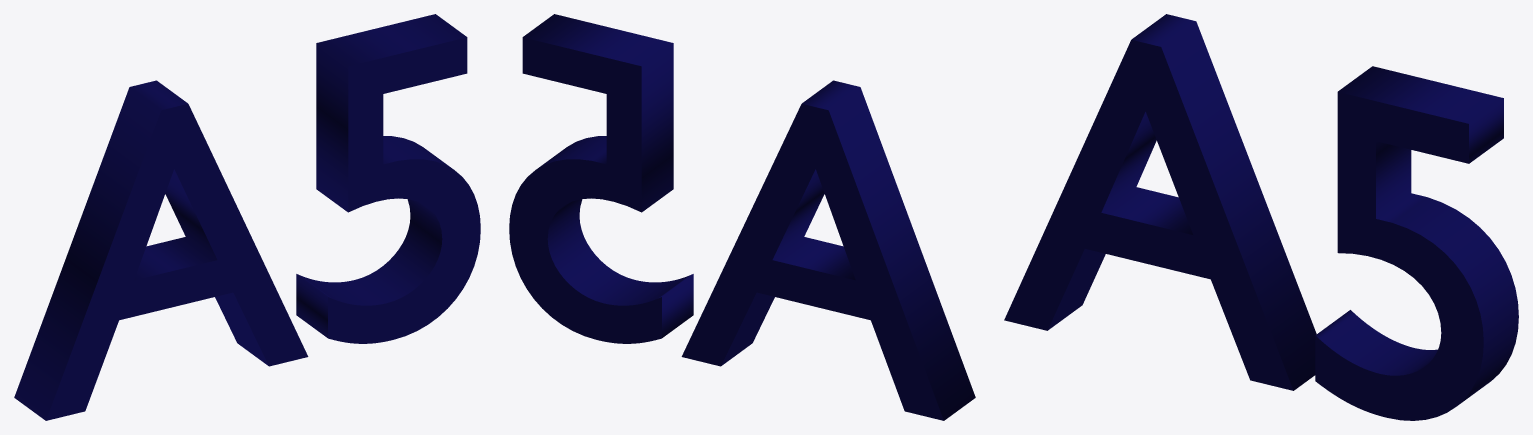
3 views of the same model, side by side, from view 1: azimuth 30°, elevation 25°; view 2: azimuth 150°, elevation 25°; view 3: azimuth 330°, elevation 25° (orthographic). The views are drawn at different scales.
Parts seen in each view (by area): view 1: Text; view 2: Text; view 3: Text.
Boxes of the visible parts, box(x1,y1,x2,y2) form: Text: box(14, 14, 480, 420); Text: box(509, 14, 975, 420); Text: box(1004, 14, 1518, 420).
Bounding box in the file's own units: 111 × 69.5 × 14.
